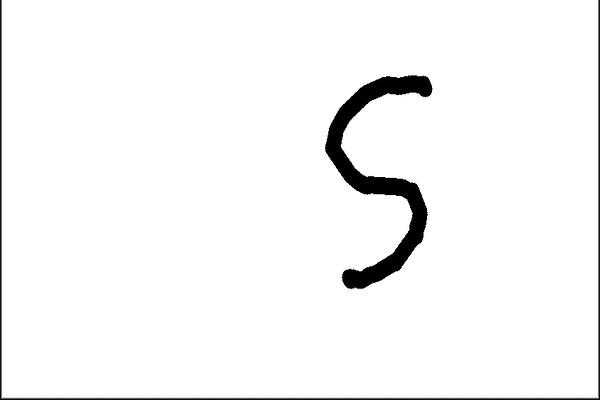S: (322, 72, 438, 291)
